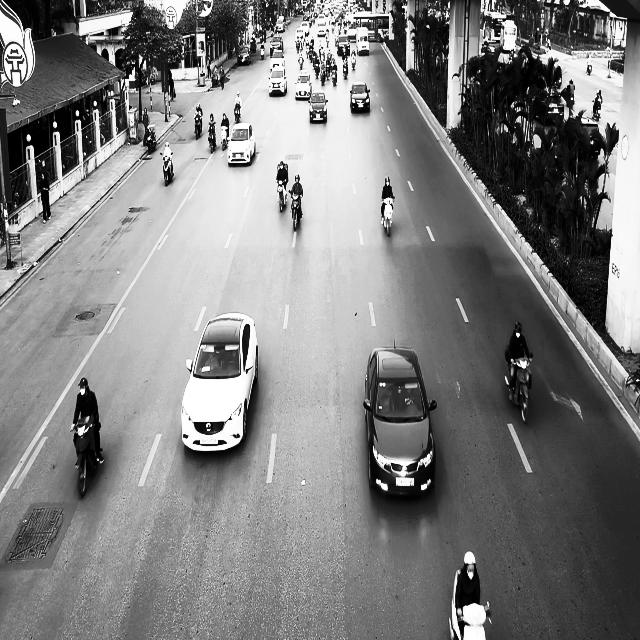bus: (346, 12, 389, 41)
car: (363, 342, 437, 498), (181, 312, 258, 452), (227, 122, 256, 165), (309, 89, 328, 123), (350, 81, 370, 112), (268, 66, 287, 96), (295, 70, 312, 100), (270, 49, 285, 71), (237, 44, 251, 65)
motorbike: (70, 414, 104, 497), (504, 352, 533, 424), (289, 190, 303, 230), (381, 197, 394, 236), (160, 151, 174, 186), (276, 179, 287, 212), (146, 125, 156, 153), (220, 124, 229, 150), (592, 99, 602, 120), (208, 128, 216, 153), (194, 115, 202, 139), (234, 104, 241, 122)
